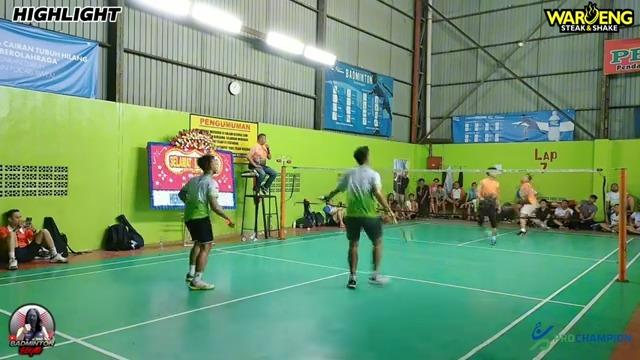Shuttlecock: (514, 38, 526, 49)
